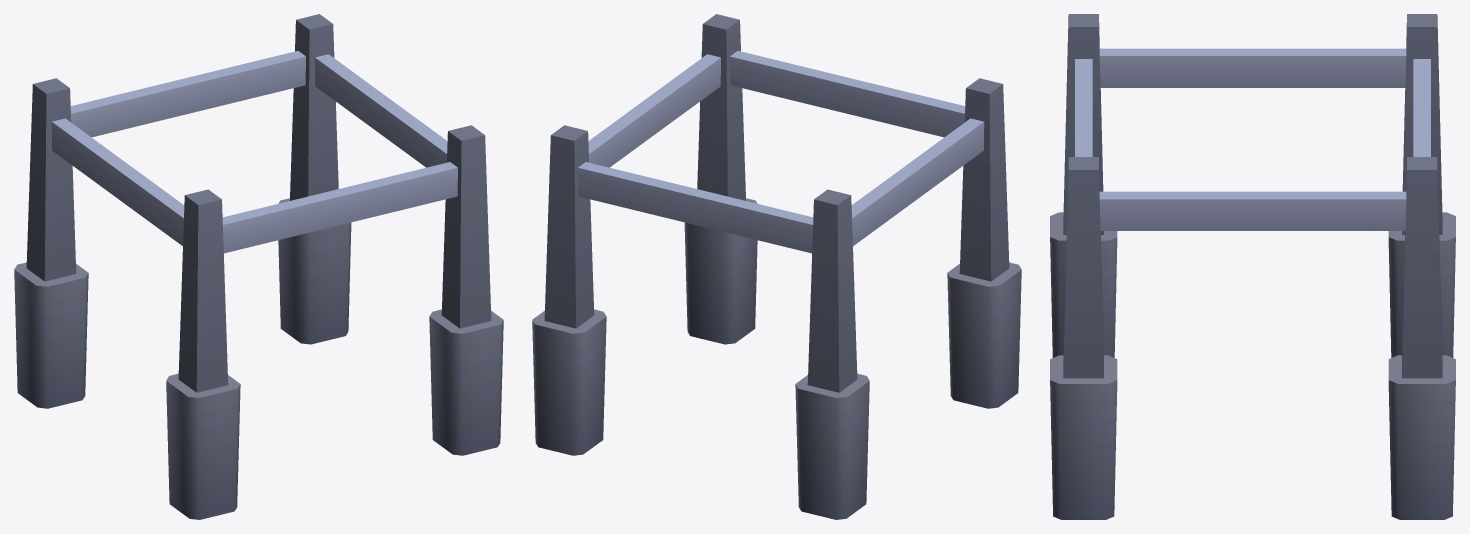
Rendered from structure-metal.glb.
3 views of the same model, side by side, from view 1: azimuth 30°, elevation 25°; view 2: azimuth 150°, elevation 25°; view 3: azimuth 270°, elevation 25° (orthographic). The views are drawn at different scales.
Visible parts, largest first — view 1: structure-metal; view 2: structure-metal; view 3: structure-metal.
Part boxes in pixels (<box>): structure-metal: <box>14,14,503,519</box>; structure-metal: <box>532,14,1021,519</box>; structure-metal: <box>1050,14,1455,519</box>.
Size of the model in its own units: 0.5354 by 0.5 by 0.5354.
1 material, 1 textured.
